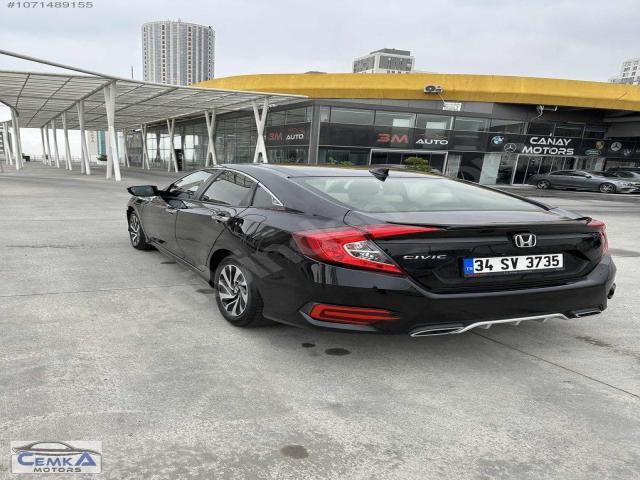plaka: (464, 254, 562, 274)
